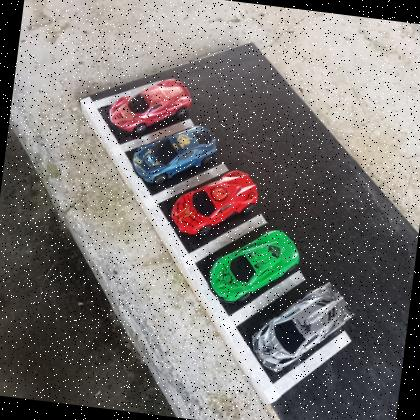Car: (248, 272, 358, 380), (206, 223, 304, 309), (168, 162, 262, 241), (129, 118, 220, 190), (106, 70, 194, 140)
